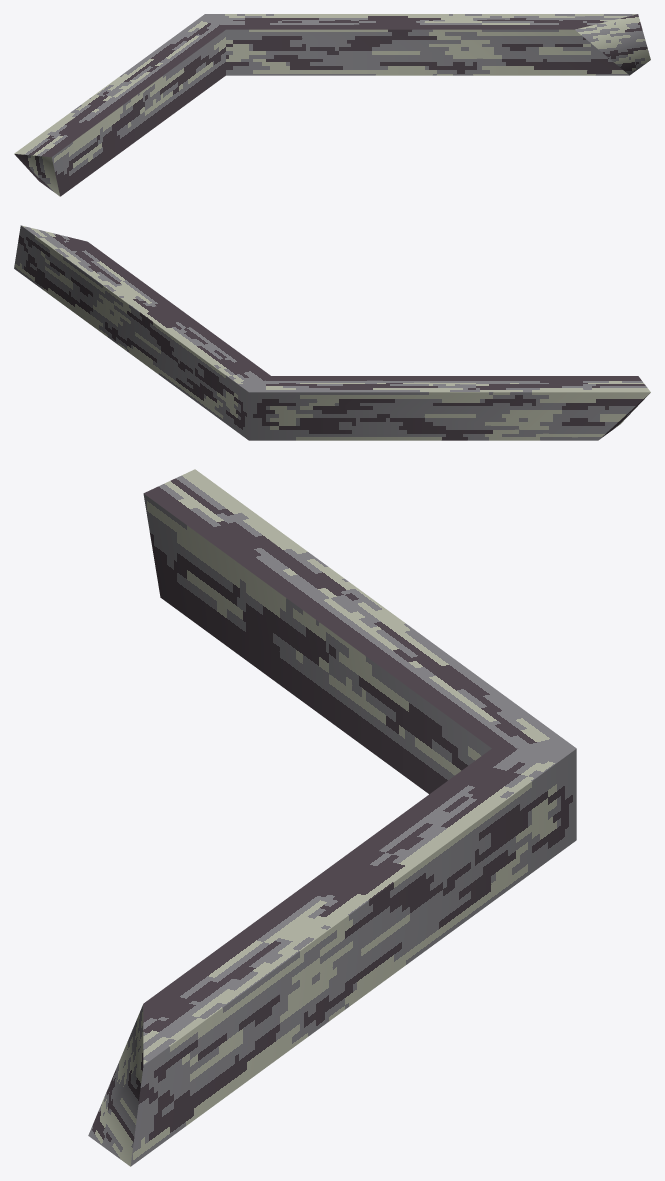
File: barrel_gib_02_rim.glb
3 renders of one model, top to bottom at view 1: azimuth 30°, elevation 25°; view 2: azimuth 150°, elevation 25°; view 3: azimuth 270°, elevation 25°, orthographic. The views are drawn at different scales.
Parts seen in each view (by area): view 1: circle; view 2: circle; view 3: circle.
Part boxes in pixels (x1=…): circle: x1=14, y1=14, x2=650, y2=196; circle: x1=14, y1=225, x2=650, y2=440; circle: x1=88, y1=469, x2=576, y2=1166.
Bounding box in the file's own units: 1.68 × 0.1185 × 0.572.
1 material, 1 textured.
